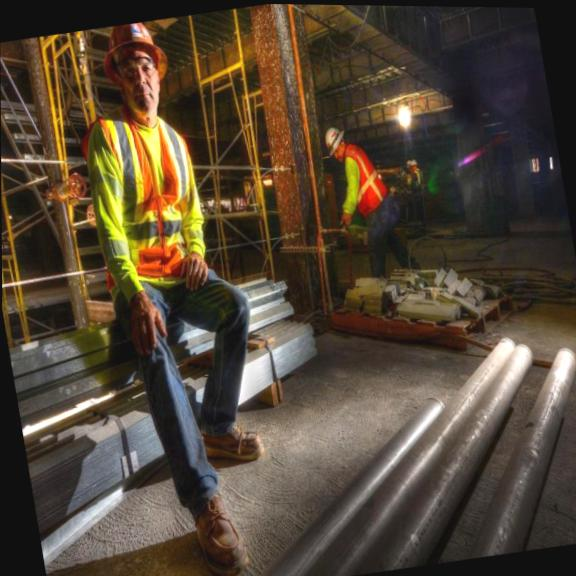safety_vest: (81, 107, 217, 303), (328, 139, 393, 236)
